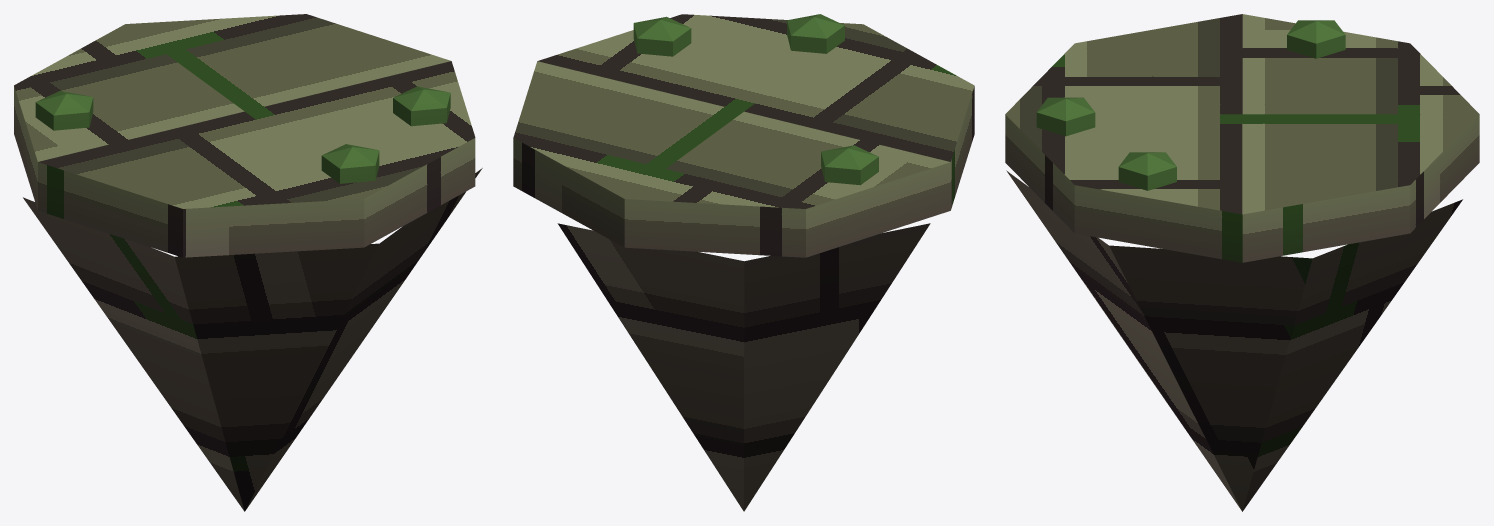
Rendered from rift_shard.glb.
The picture shows the model from 3 angles, left to right: view 1: azimuth 30°, elevation 25°; view 2: azimuth 150°, elevation 25°; view 3: azimuth 270°, elevation 25°; orthographic projection.
Visible parts, largest first — view 1: rift_shard; view 2: rift_shard; view 3: rift_shard.
Boxes of the visible parts, box(x1,y1,x2,y2) form: rift_shard: box(14, 14, 482, 511); rift_shard: box(513, 14, 974, 511); rift_shard: box(1005, 14, 1479, 511).
Bounding box in the file's own units: 1.6 × 1.57 × 1.6.
2 materials, 1 textured.
